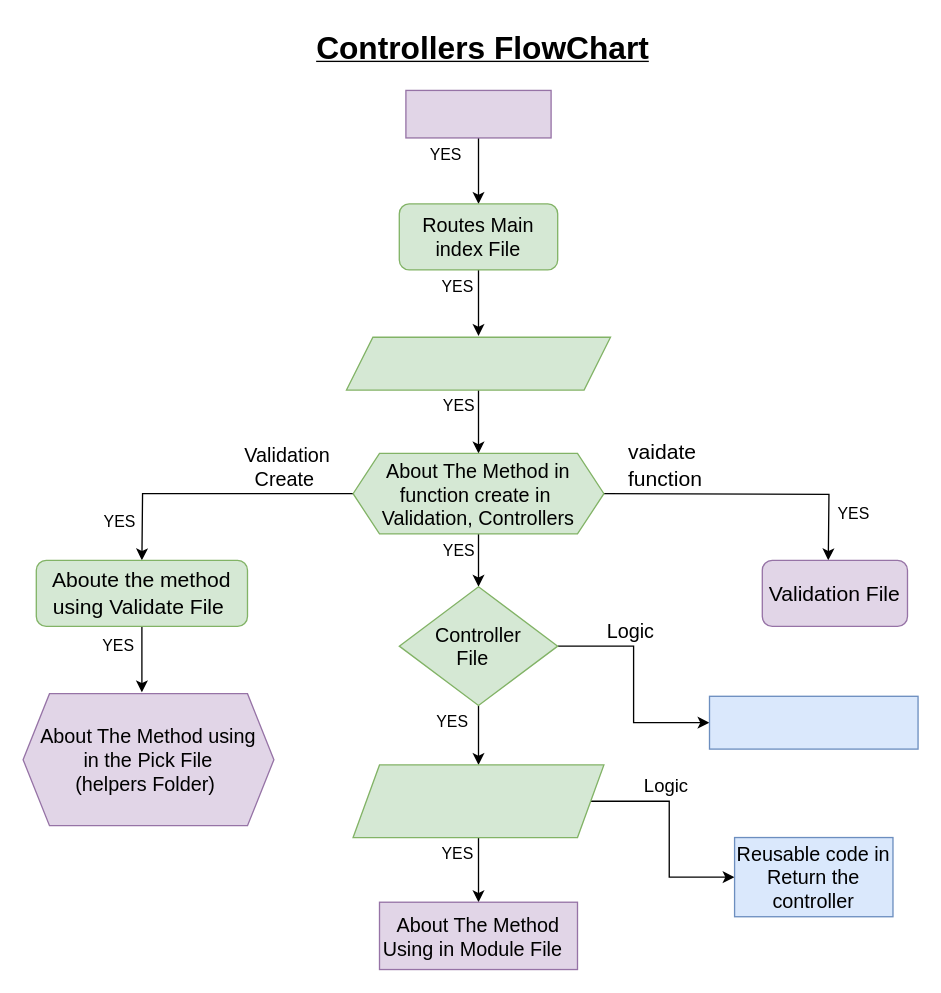
The diagram is 941 pixels wide and 993 high, and some of its shapes have lost their labels. Here are the shapes that lost their labels. From the top down, the box of each, then its label:
(405, 89, 551, 138): Routes
(345, 336, 610, 390): Particular Method vise Route name File ma
(708, 695, 918, 749): Logic Data Store Proccessing
(352, 764, 604, 838): About the Method Using The Service File
